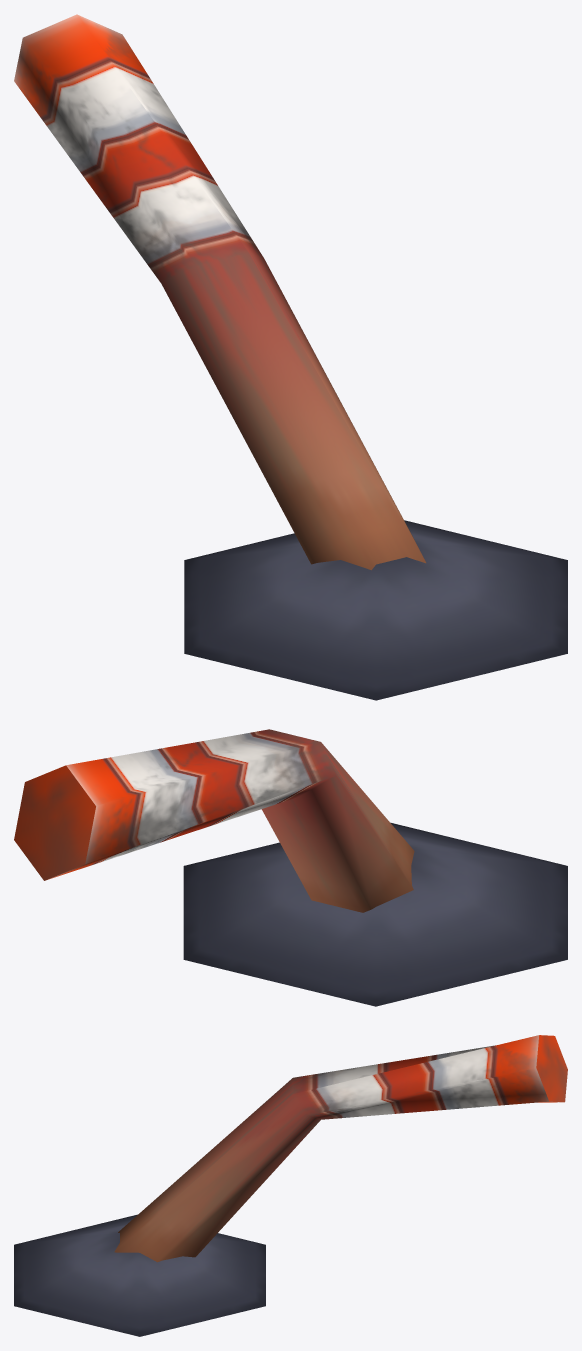
Rendered from trafficCone03_B.fbx.
3 renders of one model, top to bottom at view 1: azimuth 30°, elevation 25°; view 2: azimuth 150°, elevation 25°; view 3: azimuth 270°, elevation 25°, orthographic. The views are drawn at different scales.
Visible parts, largest first — view 1: trafficCone03_B; view 2: trafficCone03_B; view 3: trafficCone03_B.
Boxes of the visible parts, x1,y1,x2,y2 form: trafficCone03_B: [14, 14, 567, 700]; trafficCone03_B: [14, 729, 567, 1006]; trafficCone03_B: [14, 1035, 567, 1336].
Size of the model in its own units: 44.41 by 43.43 by 84.6.
